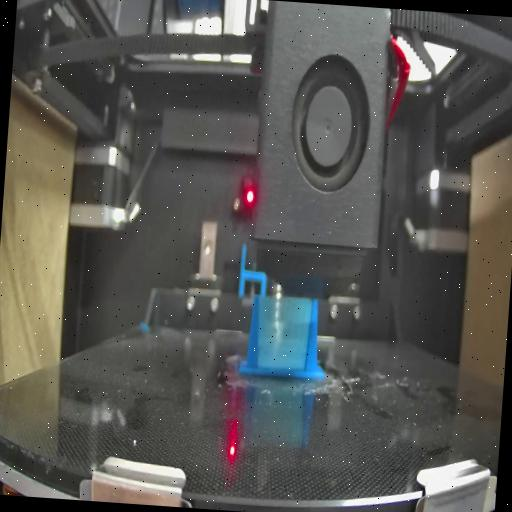stringing: (256, 296, 314, 368)
